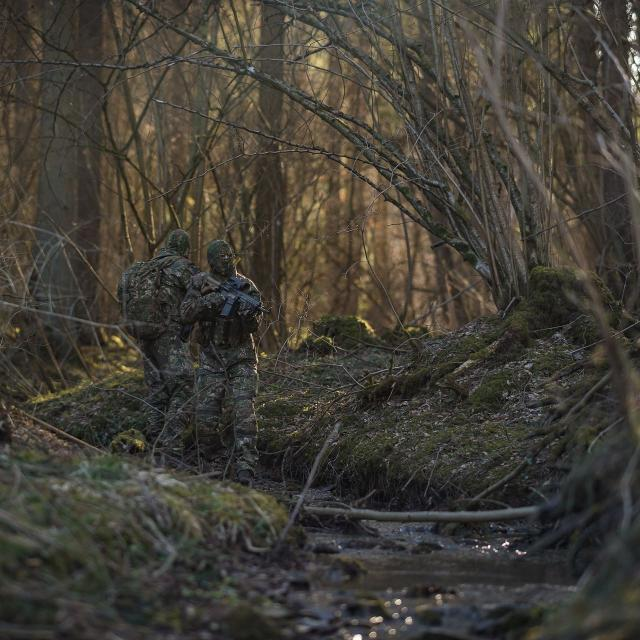Human: (180, 237, 263, 487), (116, 226, 196, 465)
